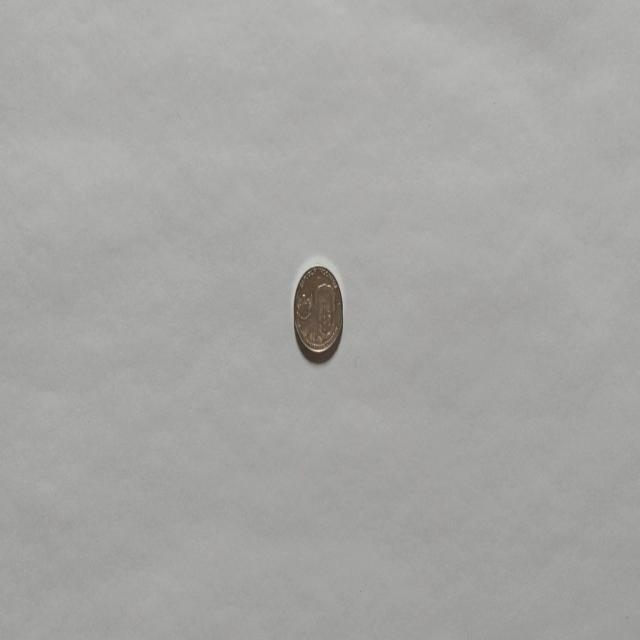seratus rupiah: (292, 263, 344, 356)
